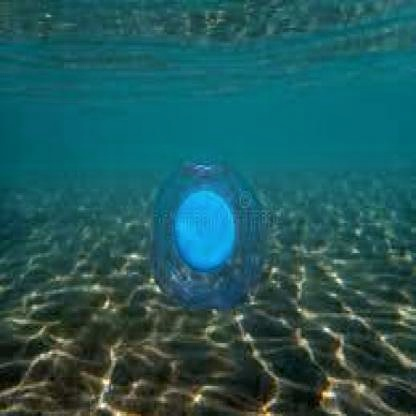pbottle: (127, 150, 278, 307)
